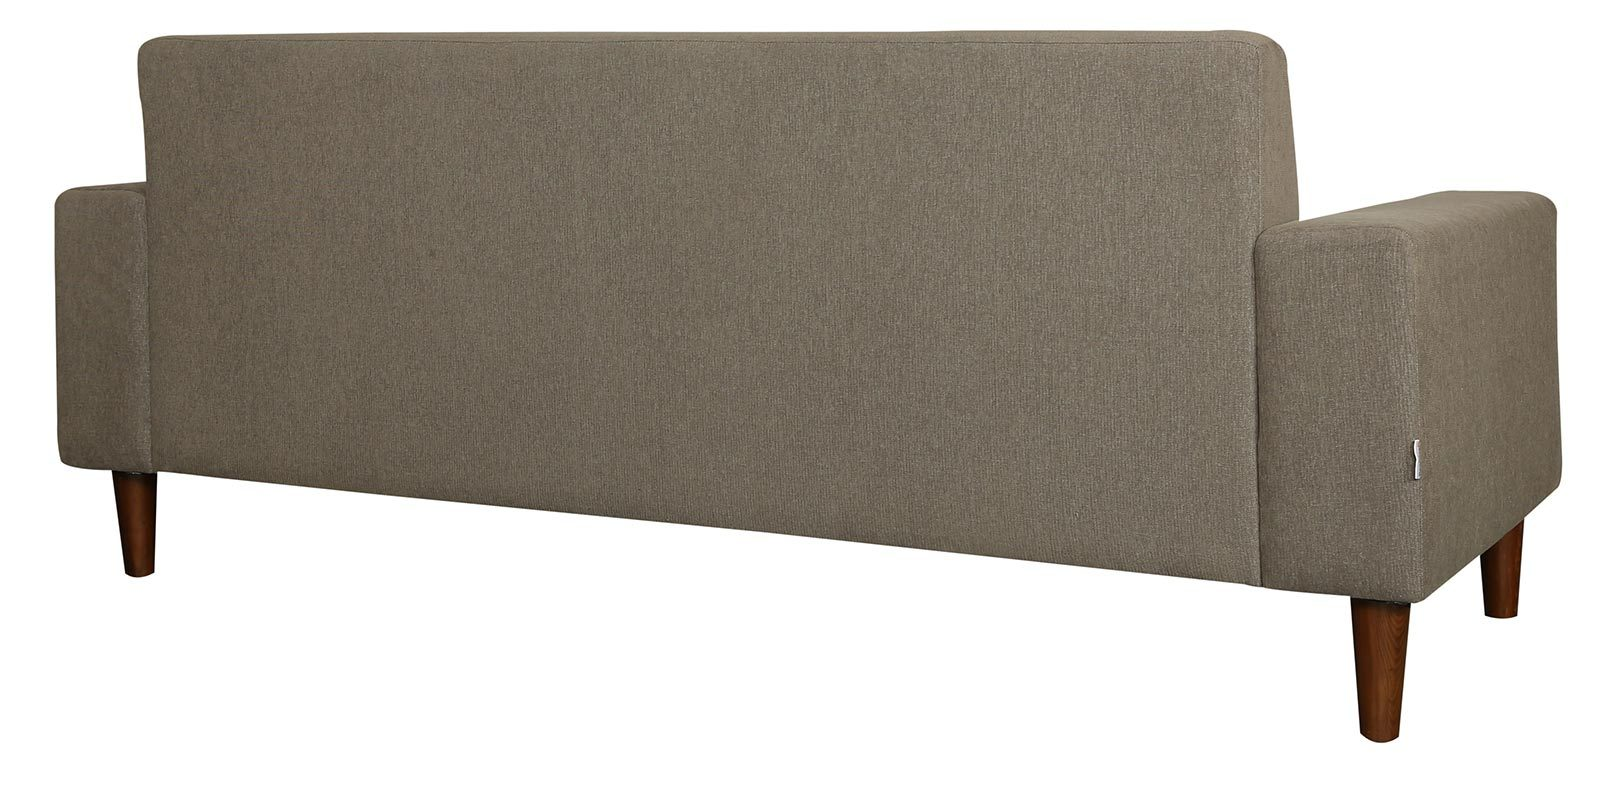Cordoba Three Seater Sofa in Sandy Brown Colour by CasaCraft: (39, 28, 1573, 728)
